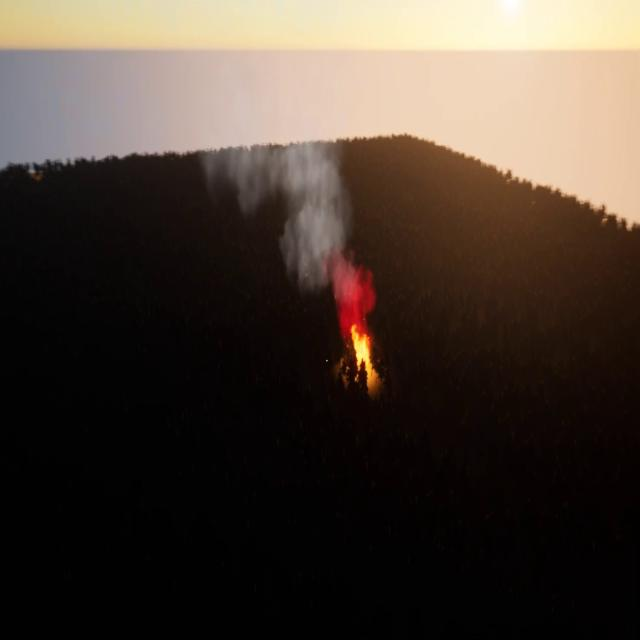fire: (350, 328, 376, 374)
smoke: (204, 138, 383, 328)
